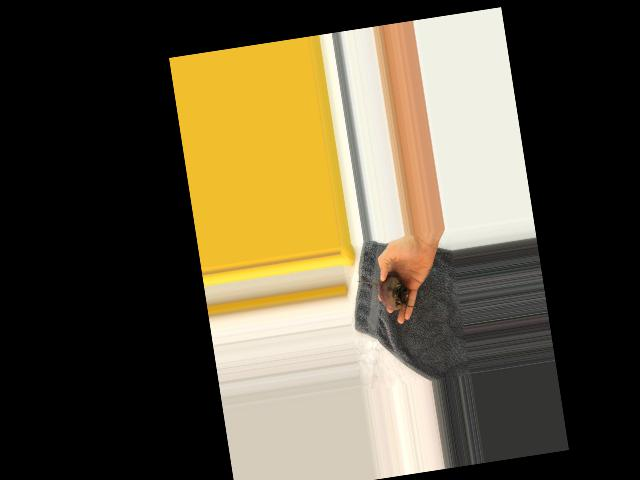beet: (357, 269, 411, 314)
